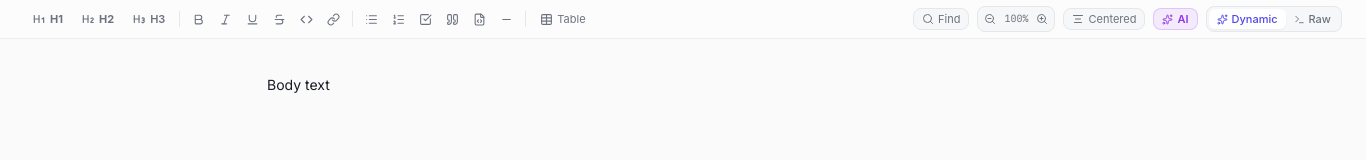
Scenario: MarkdownEditor Component › can toggle between centered document width and full width
The width and height of the screenshot is (1366, 160).
What coordinates should you click on to do the following:
click the button "centered"
I would click on:
 (1104, 19)
Its box is 1064,8 -> 1146,30.
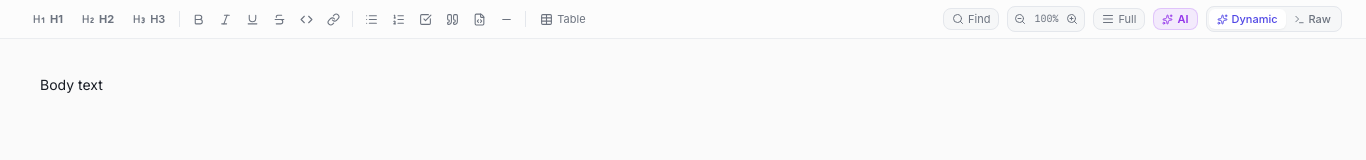
Expected: the text "full" is shown, 1118,11 -> 1136,27
